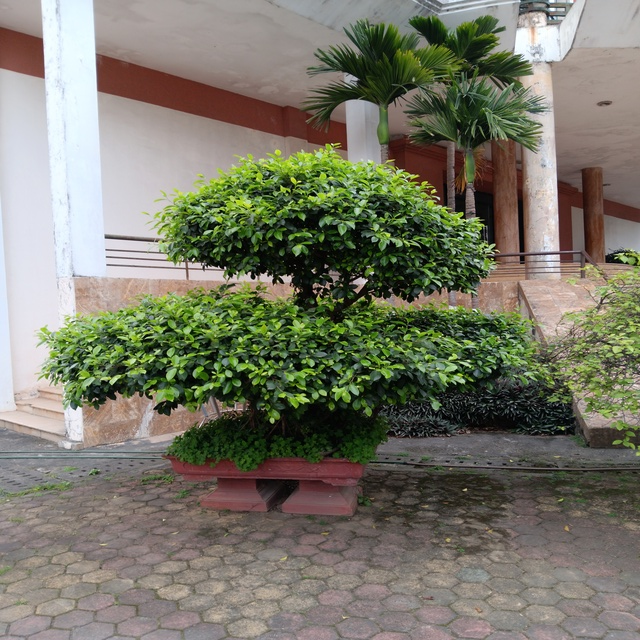caycanh: (41, 141, 553, 526)
